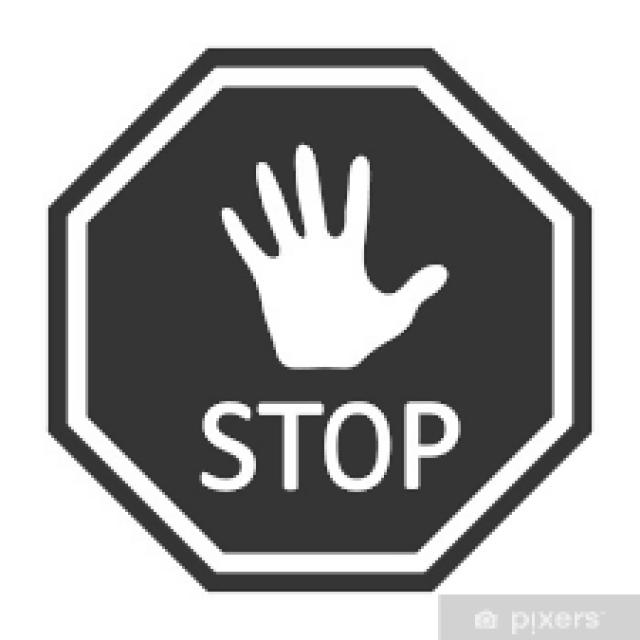stop sign: (47, 46, 604, 591)
